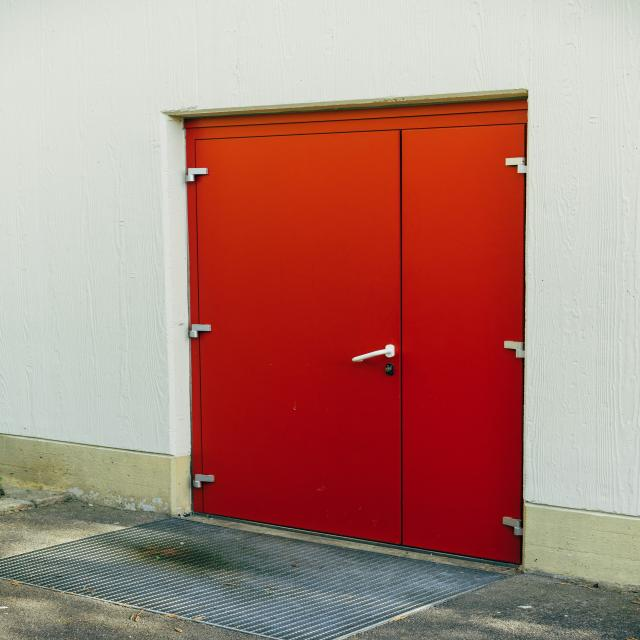door-handle: (352, 345, 396, 361)
